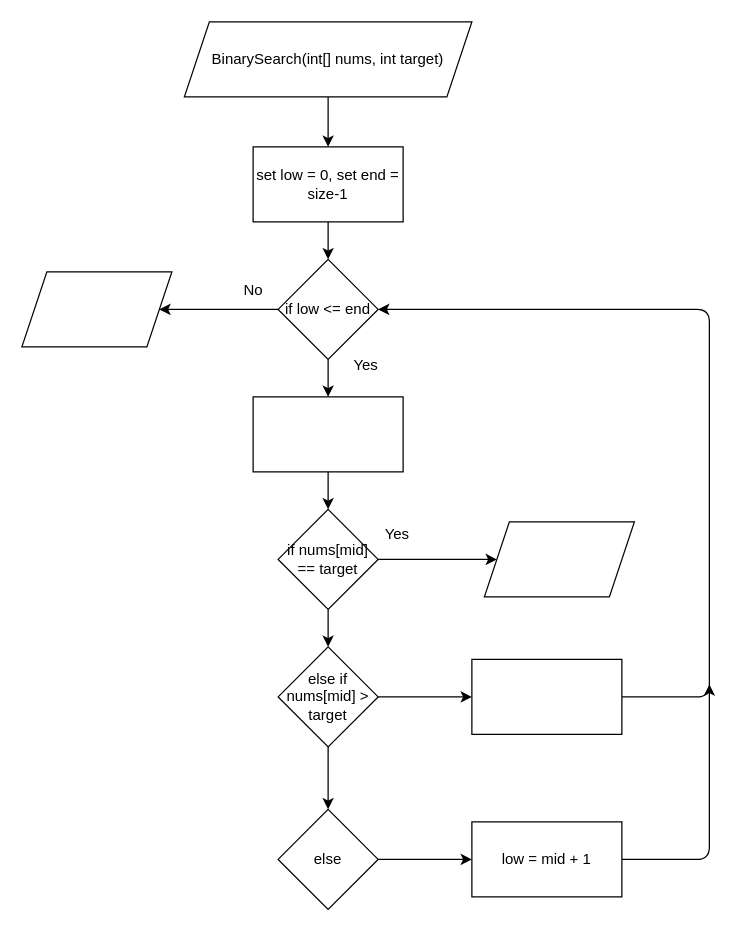
This 741x931 diagram has some shape labels left out. The box of each missing label's shape, as (x1, y1, x2, y2) in pixels:
end = mid - 1: (471, 658, 622, 734)
mid = (low+end)/2: (252, 396, 403, 472)
return -1: (21, 271, 172, 347)
return mid: (483, 521, 634, 597)
